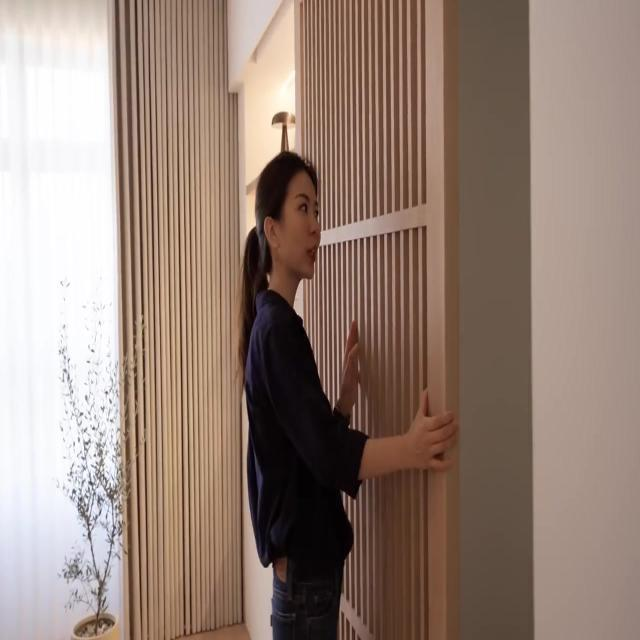person: (237, 150, 459, 638)
